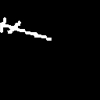double_crochet: (0, 18, 50, 39)
